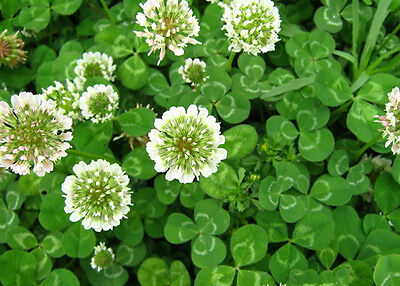clover: (314, 66, 400, 143), (192, 224, 274, 286), (163, 197, 231, 269), (264, 95, 336, 162), (179, 67, 251, 124), (4, 226, 71, 280), (257, 161, 310, 223)
clover blossom white: (145, 103, 228, 185), (2, 90, 73, 177), (59, 158, 135, 232), (132, 1, 204, 65), (218, 1, 281, 54), (373, 87, 400, 154), (79, 82, 121, 123), (39, 79, 80, 121), (73, 51, 117, 81), (178, 57, 210, 87), (89, 242, 117, 273)
